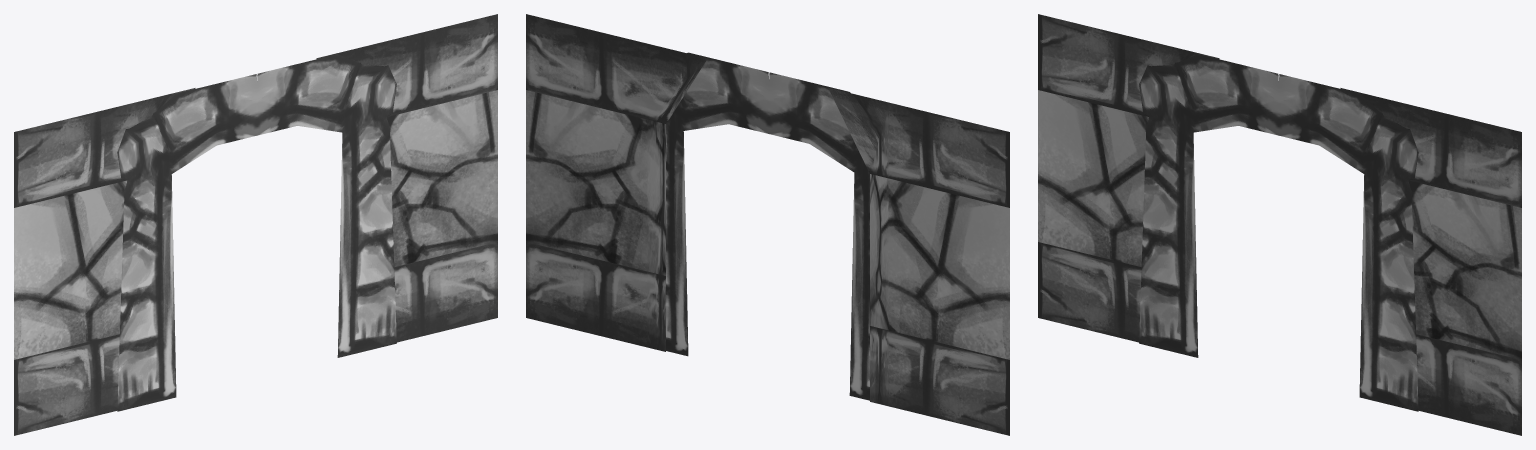
Rendered from DoorWall.fbx.
The picture shows the model from 3 angles, left to right: view 1: azimuth 30°, elevation 25°; view 2: azimuth 150°, elevation 25°; view 3: azimuth 330°, elevation 25°; orthographic projection.
Visible parts, largest first — view 1: DoorWall, DoorFrame; view 2: DoorWall, DoorFrame; view 3: DoorWall, DoorFrame.
Boxes of the visible parts, box(x1,y1,x2,y2) form: DoorWall: box(14, 14, 497, 435); DoorFrame: box(117, 54, 396, 411); DoorWall: box(526, 14, 1009, 435); DoorFrame: box(666, 52, 869, 400); DoorWall: box(1038, 14, 1521, 435); DoorFrame: box(1139, 54, 1418, 411).
Bounding box in the file's own units: 5 × 0.0198 × 3.
1 material, 1 textured.
